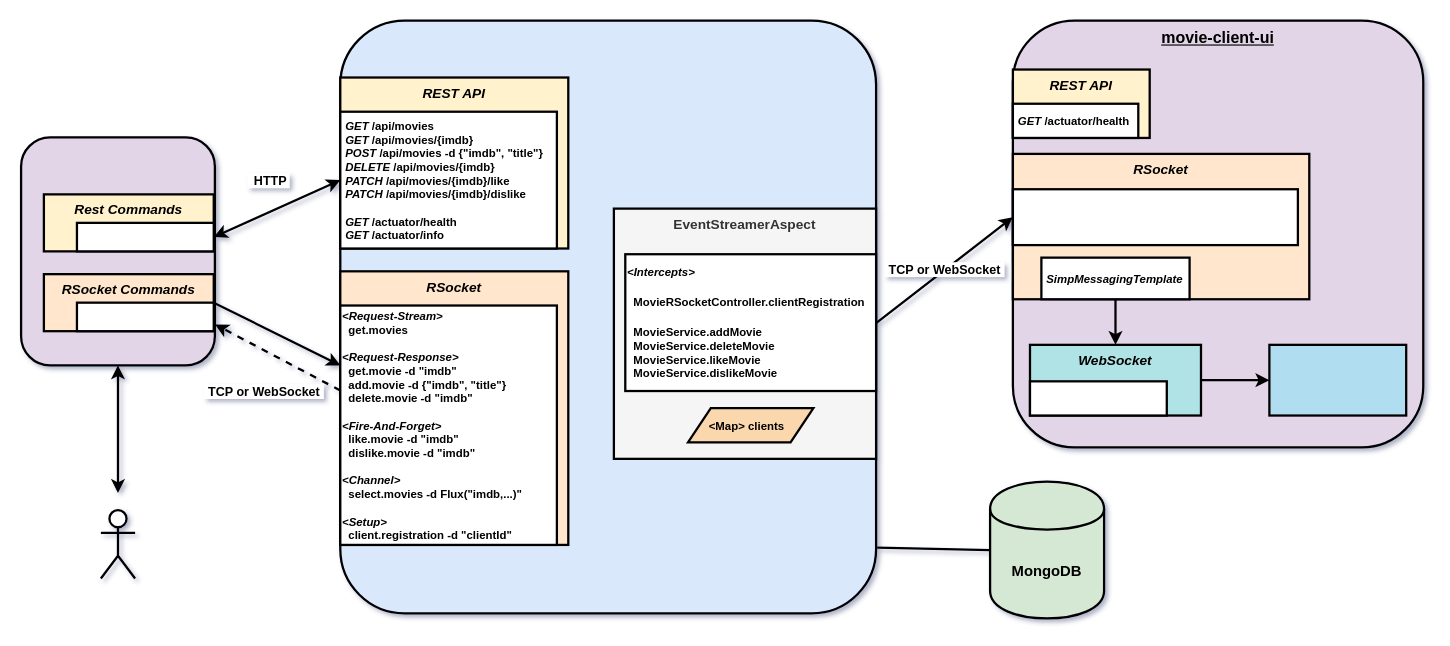
Some shapes in this 1450 by 646 pixel diagram are drawn without their labels. Each missing label, with the box of its shape:
/topic/movies/updates: (1028, 380, 1167, 416)
<Fire-And-Forget> movies.updates -d "{"action", "timestamp", "imdb", "payload"}": (1011, 188, 1298, 246)
app.js / index.html: (1268, 343, 1407, 416)
movie-client-shell: (19, 136, 215, 366)
movie-server: (339, 19, 877, 614)
RSocketRequester: (75, 301, 214, 332)
User: (99, 508, 136, 579)
WebClient: (75, 221, 214, 252)
